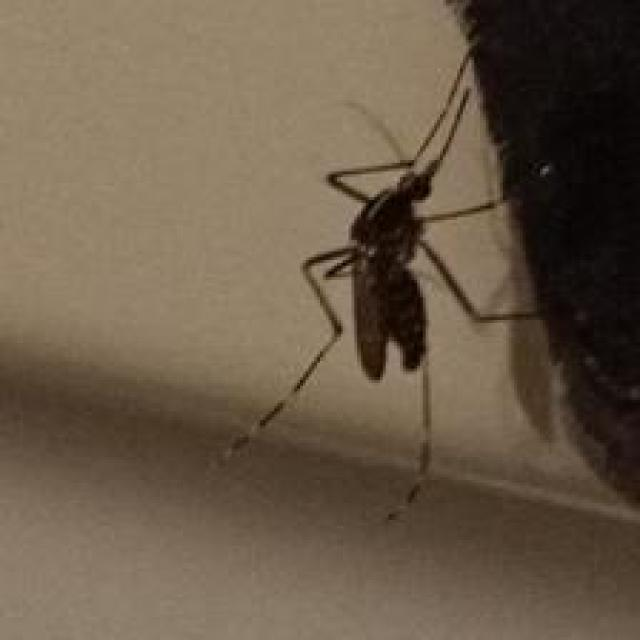Aedes albopictus: (217, 41, 549, 518)
